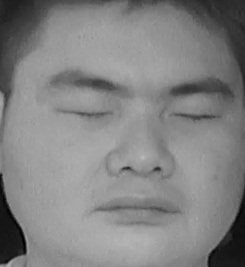blink: (175, 100, 222, 135), (66, 94, 112, 126)
mouth: (91, 187, 181, 232)
